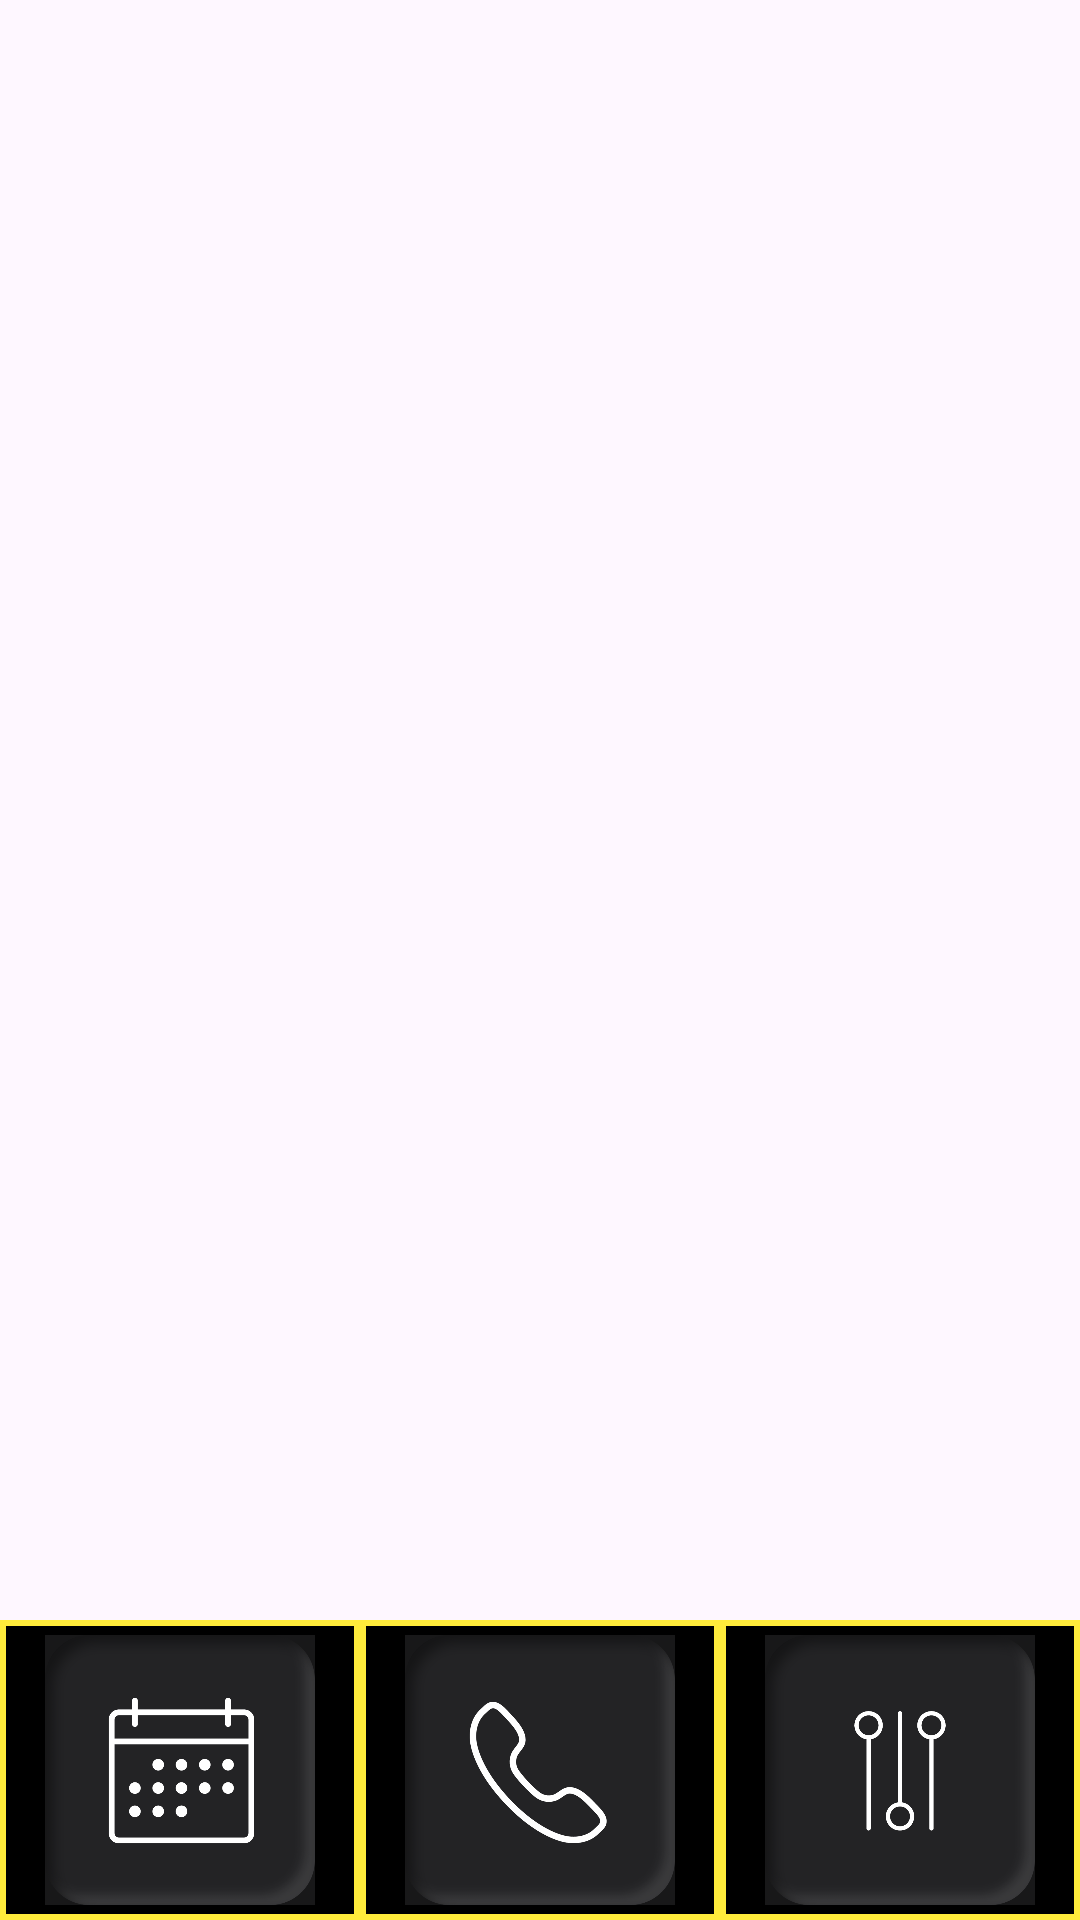

Icon click points for this 1080 × 1920 phone screenshot, format (x=x, y=y):
kalender: (x=180, y=1770)
kontakter: (x=540, y=1770)
pref: (x=900, y=1770)
